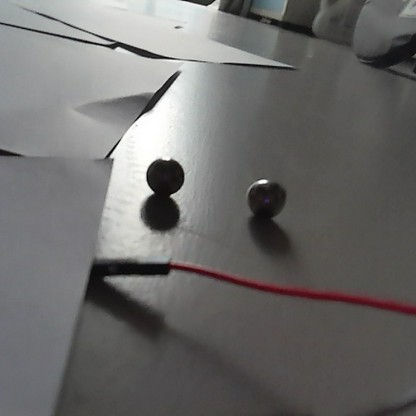ironball: (242, 178, 289, 221), (145, 155, 184, 198)
